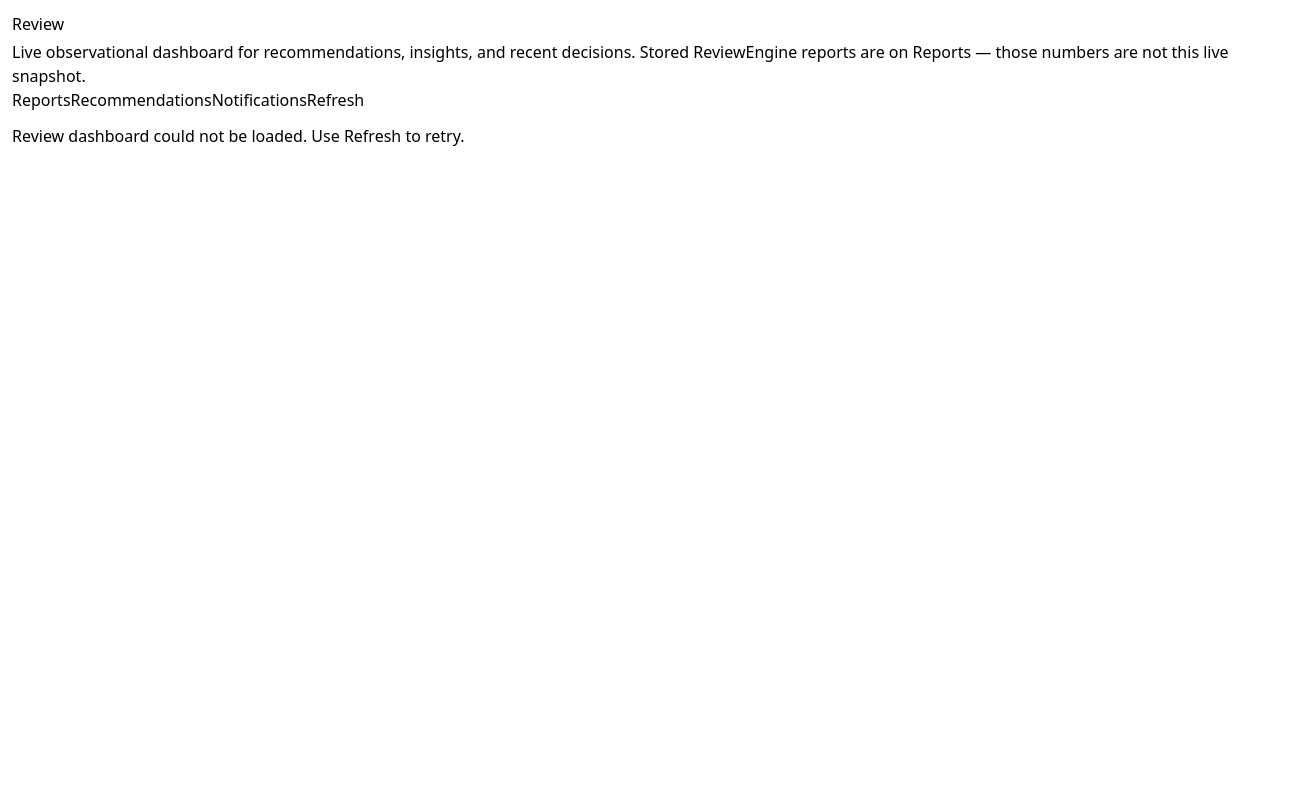
it: stops loading after a failed observational review and recovers through Refresh
Expected: the message shows "Review dashboard could not be loaded", [12,125,464,147]
Click the button "Refresh" at (336,100), box [307,88,364,112]
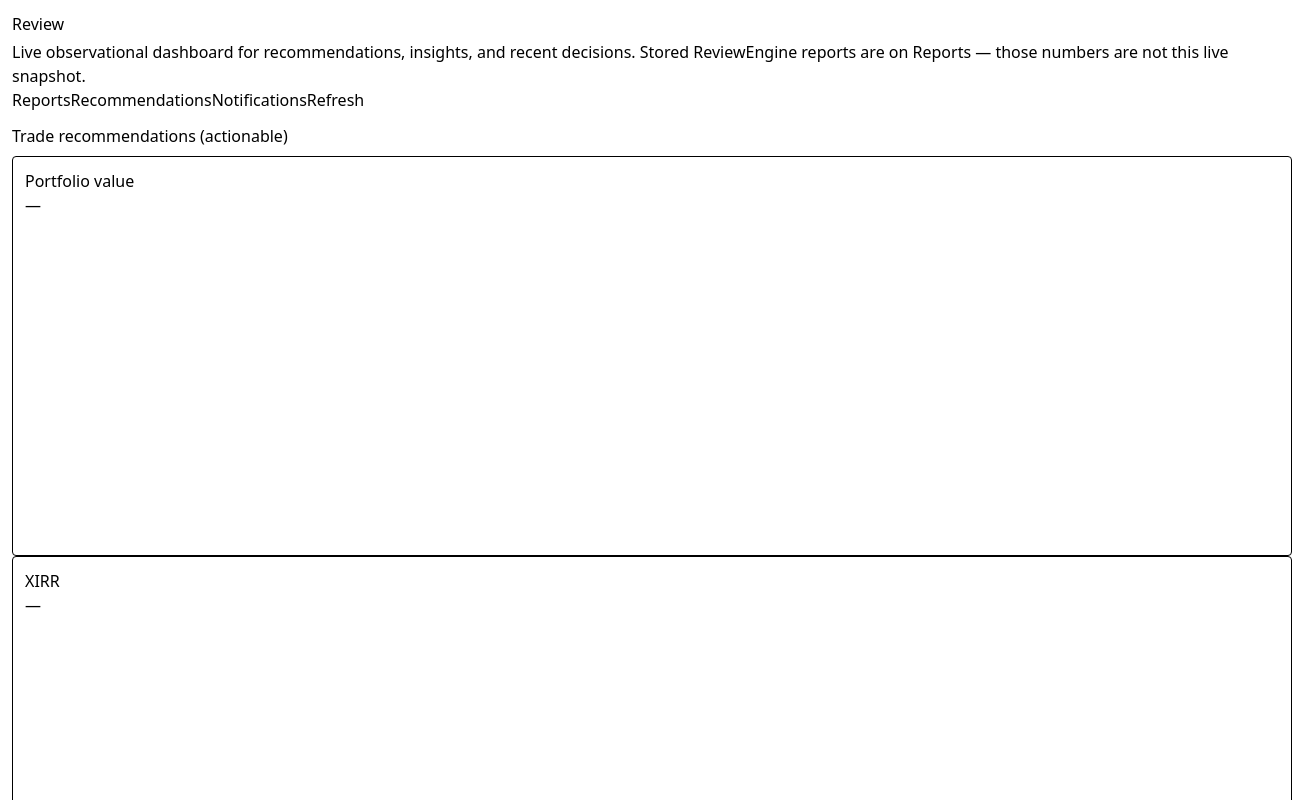
Now the heading "Trade recommendations (actionable)" is shown, box [12,125,288,147]
